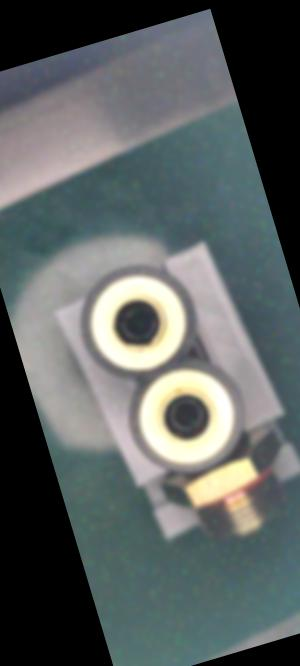off-centered: (114, 294, 167, 347)
